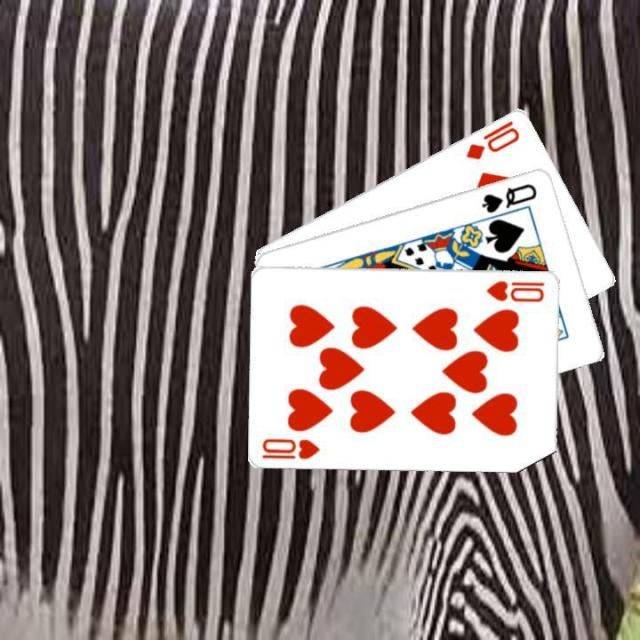10D: (462, 116, 522, 161)
10H: (482, 276, 546, 303), (258, 434, 322, 461)
QS: (477, 179, 539, 214)
